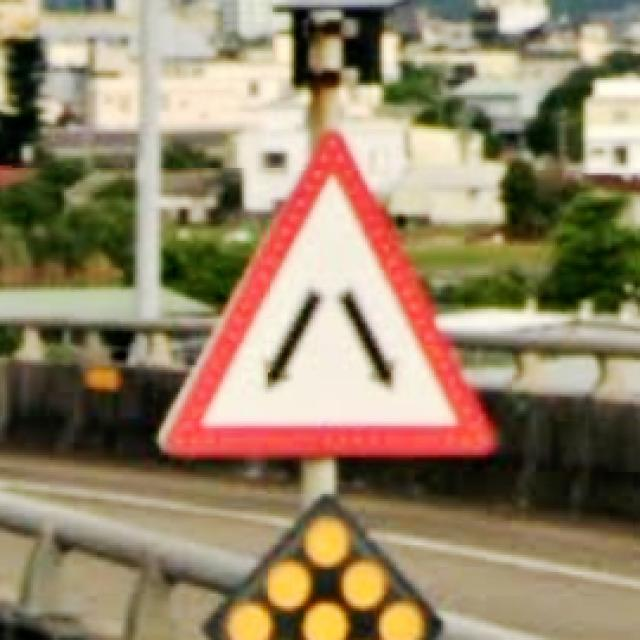diverge: (154, 124, 500, 462)
